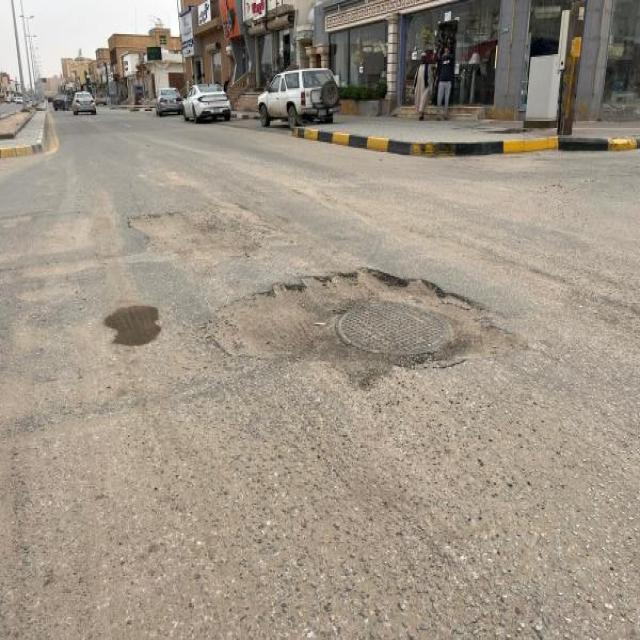p3: (215, 269, 510, 379)
